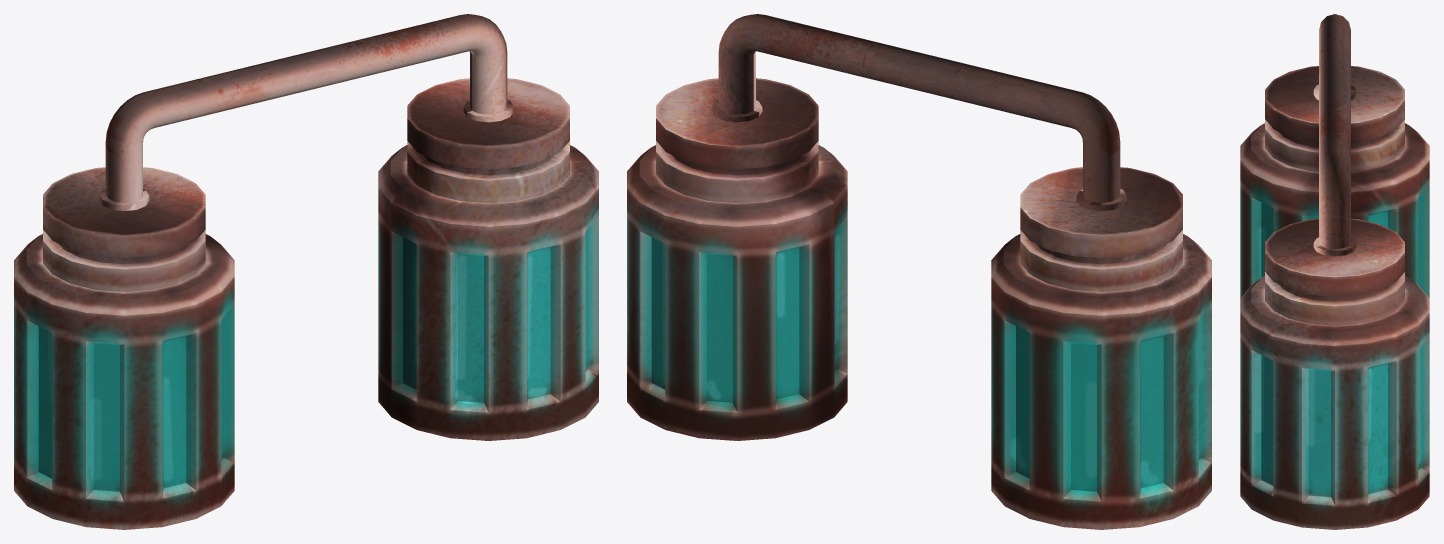
File: cuves.FBX
3 views of the same model, side by side, from view 1: azimuth 30°, elevation 25°; view 2: azimuth 150°, elevation 25°; view 3: azimuth 270°, elevation 25° (orthographic). The views are drawn at different scales.
Visible parts, largest first — view 1: Cylindre; view 2: Cylindre; view 3: Cylindre.
Part boxes in pixels (bbox=[...]): Cylindre: bbox=[14, 14, 598, 529]; Cylindre: bbox=[627, 14, 1211, 529]; Cylindre: bbox=[1240, 14, 1429, 529].
Bounding box in the file's own units: 1662 × 1090 × 568.
